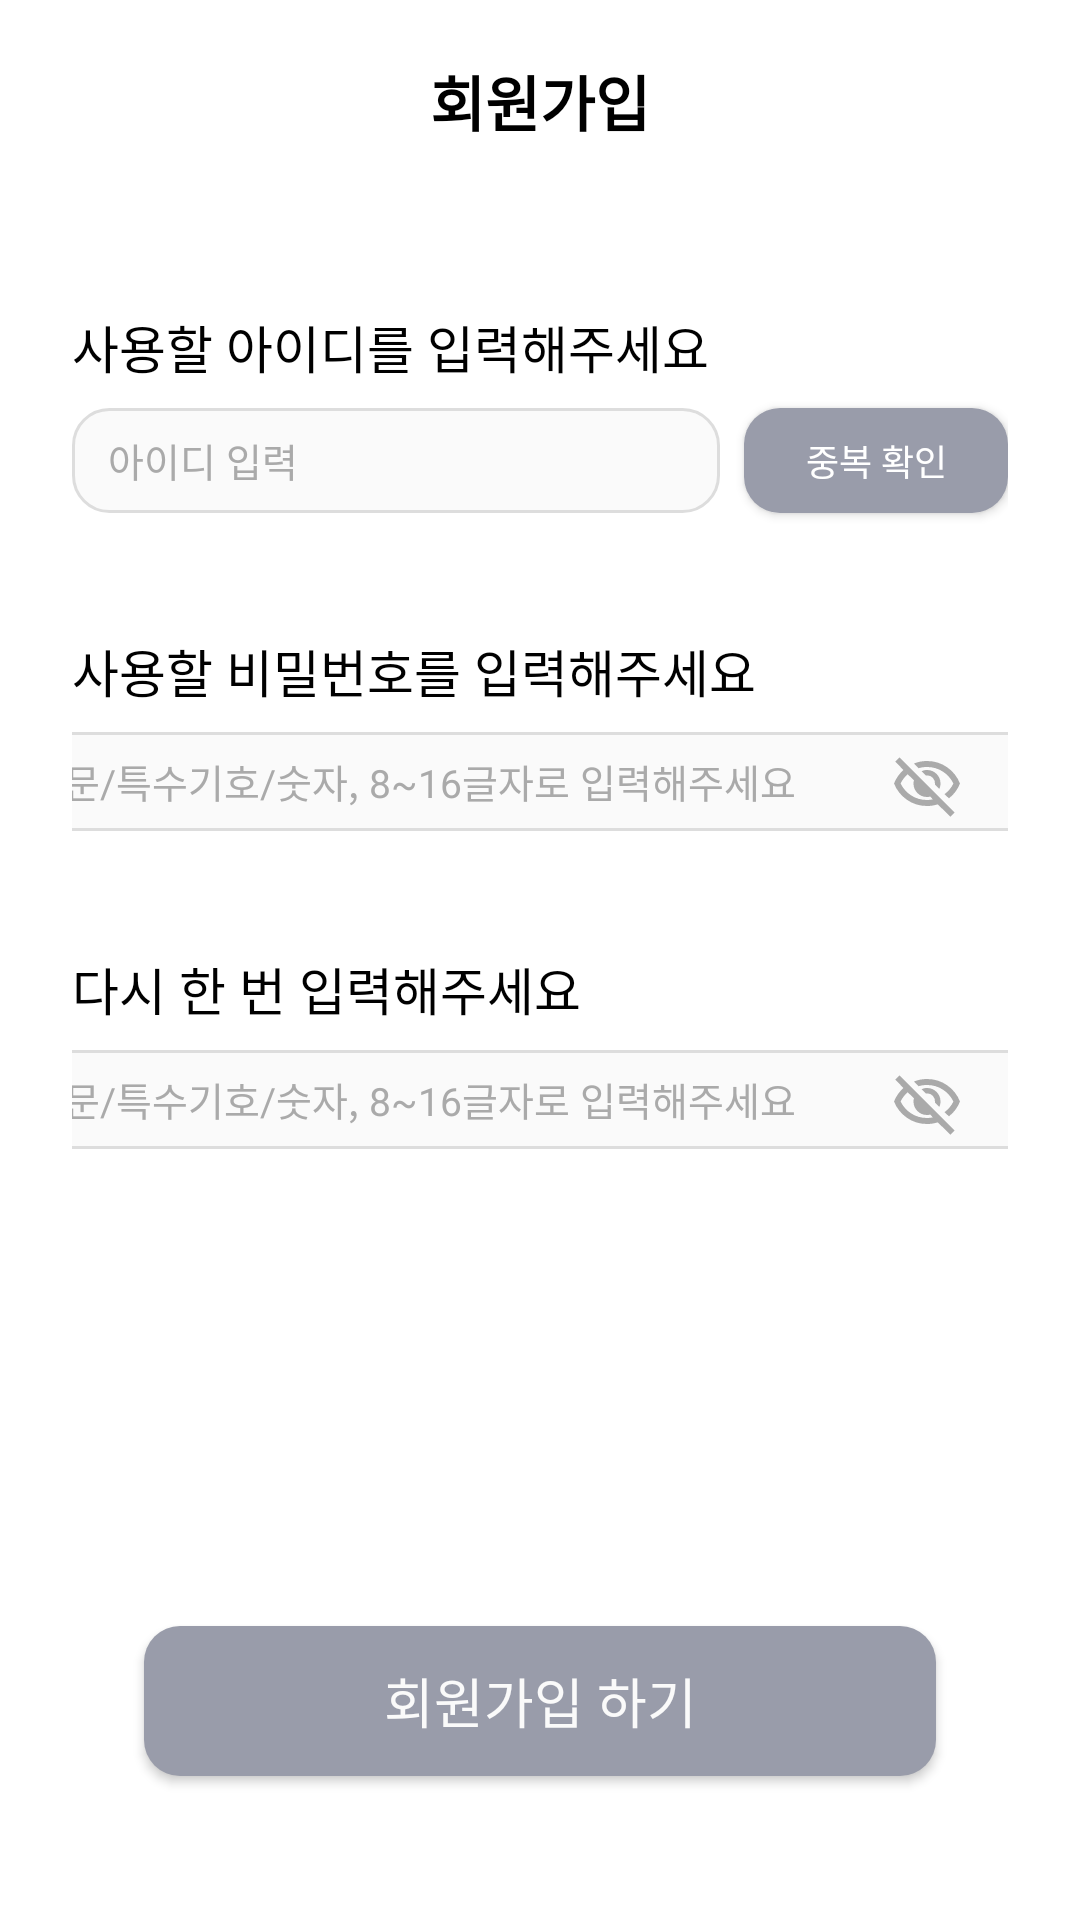

Screen size 1080×1920. Icon name, then its box in pixels as (x1=x1, y1=y1, x2=x2, y2=y2):
비밀번호 보기 토글: (x1=894, y1=757, x2=960, y2=817), (x1=894, y1=1075, x2=960, y2=1135)
